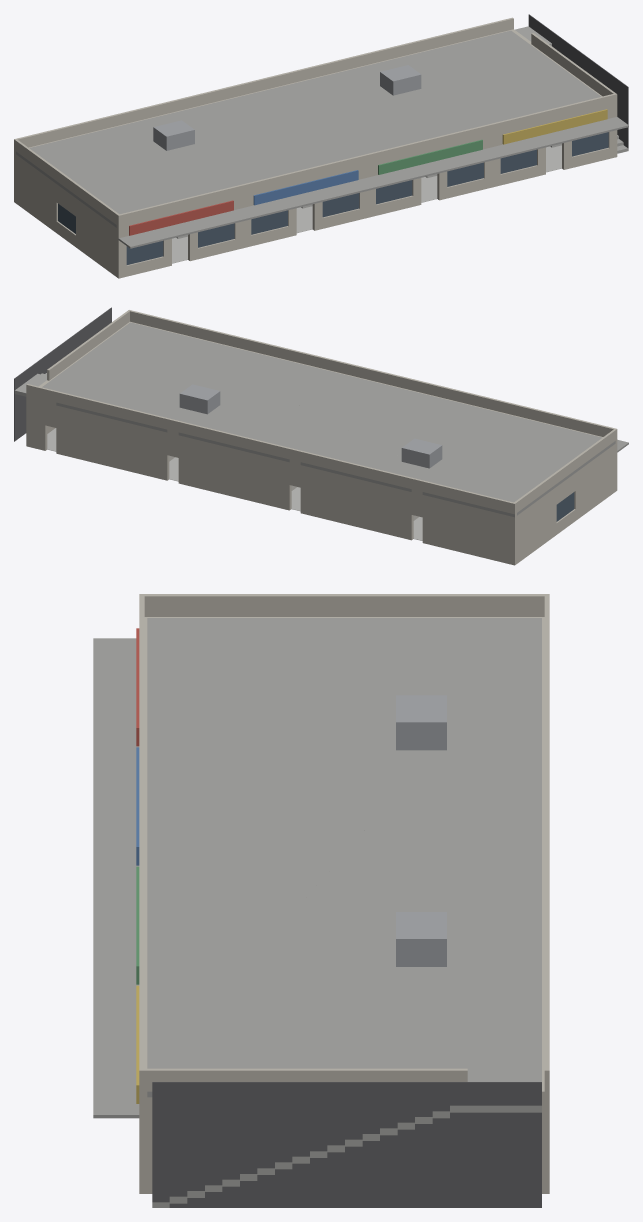
File: strip-mall.walls-v1.lod0.glb
3 views of the same model, one above another, from view 1: azimuth 30°, elevation 25°; view 2: azimuth 150°, elevation 25°; view 3: azimuth 270°, elevation 25° (orthographic). The views are drawn at different scales.
Parts seen in each view (by area): view 1: strip-mall; view 2: strip-mall; view 3: strip-mall.
Part boxes in pixels (left/top/right/bottom): strip-mall: left=14, top=14, right=628, bottom=278; strip-mall: left=14, top=307, right=628, bottom=565; strip-mall: left=93, top=594, right=549, bottom=1207.
Size of the model in its own units: 45.3 by 5.6 by 17.8.
